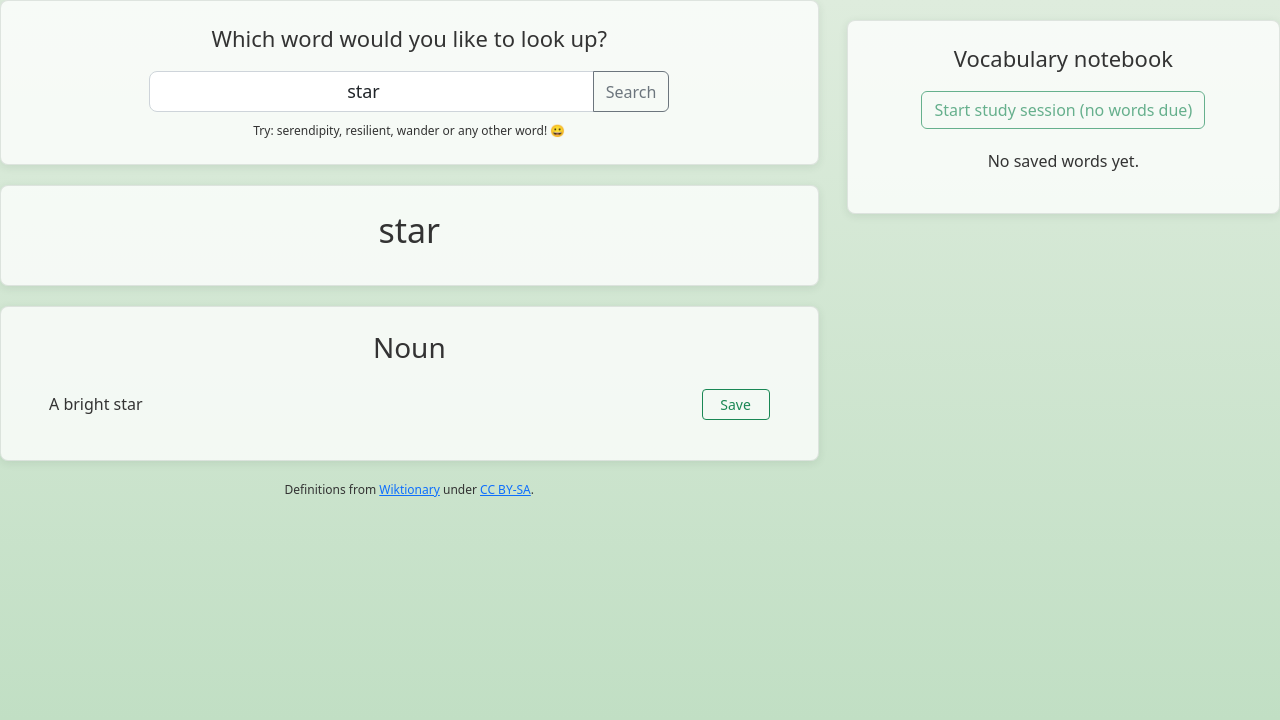
Test case: Dictionary component › saves a definition to notebook when clicking Save
Expected: the heading "star" is shown, [378,207,440,253]
Click the button "Save" at [736, 404], box [702,389,770,420]
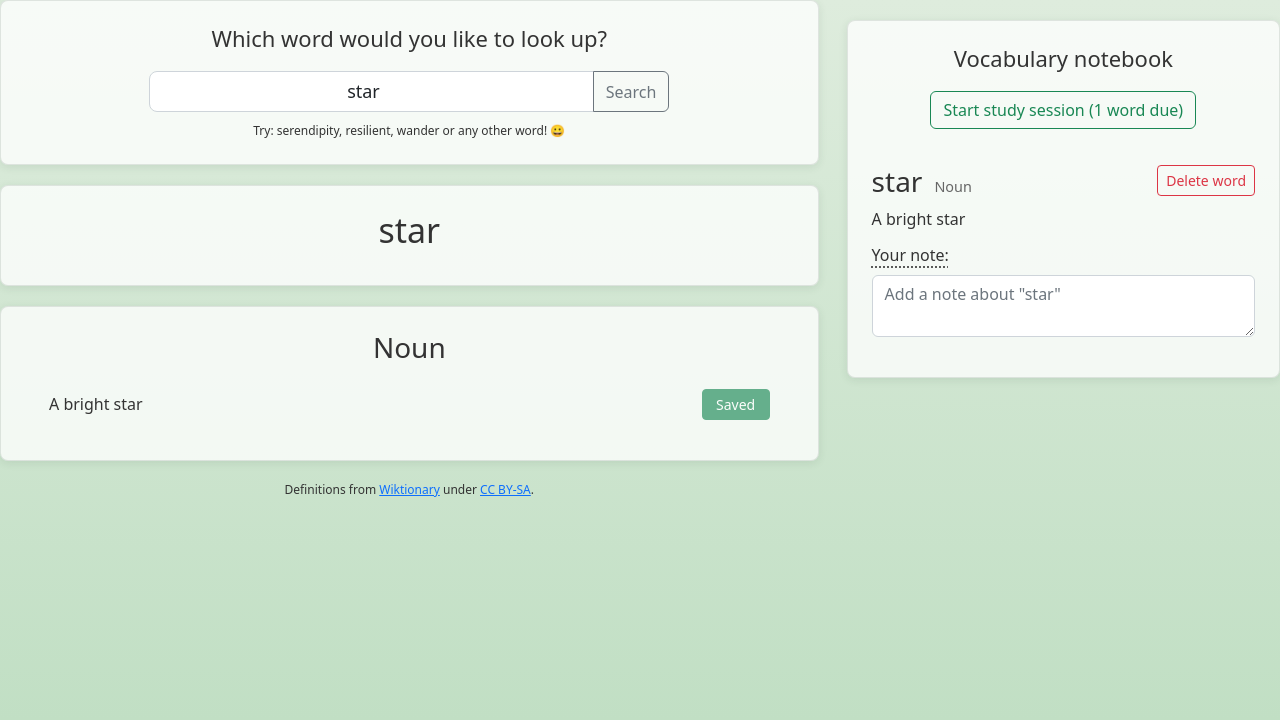
Expected: the heading "star" below "Which word would you like to look up?" is shown, [378,207,440,253]
Expected: the button "Saved" is shown, [702,389,770,420]
